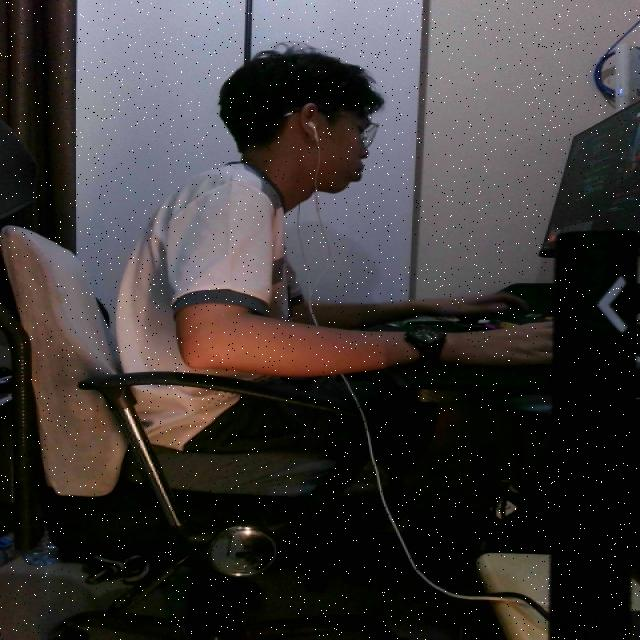Bad: (96, 44, 430, 472)
